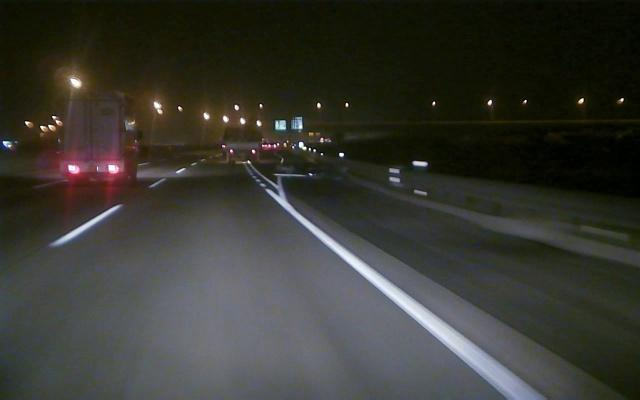lane: (259, 183, 546, 398), (49, 206, 118, 247)
